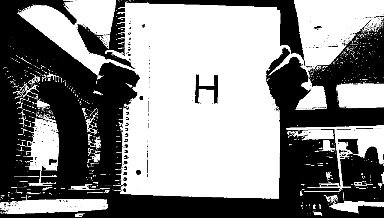H: (188, 68, 223, 104)
